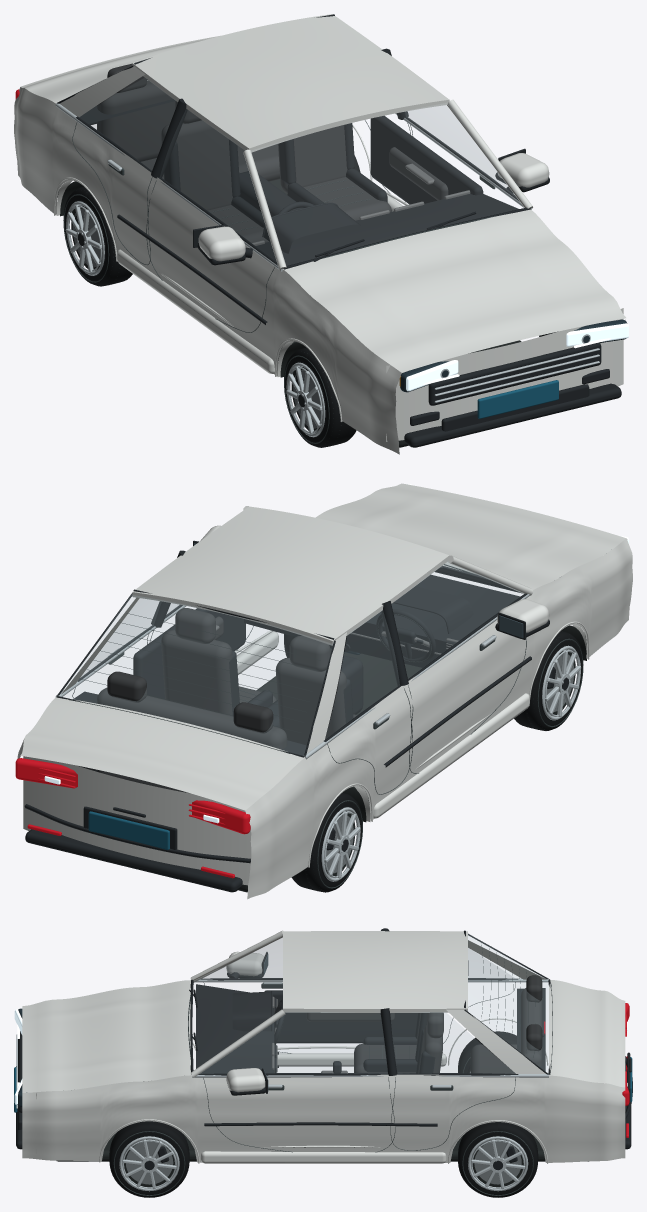
File: c2-training-sedan.glb
3 renders of one model, top to bottom at view 1: azimuth 30°, elevation 25°; view 2: azimuth 150°, elevation 25°; view 3: azimuth 270°, elevation 25°, orthographic. The views are drawn at different scales.
Parts seen in each view (by area): view 1: batch_pearl-white-paint, batch_MeshStandardMaterial (×13), curved-side-window (×3), C2_sedan_rear_axle_origin; view 2: batch_pearl-white-paint, batch_MeshStandardMaterial (×10), curved-rear-screen, curved-side-window (×3), batch_rear-red-lenses, C2_sedan_rear_axle_origin; view 3: batch_pearl-white-paint, batch_MeshStandardMaterial (×10), curved-side-window (×4), curved-rear-screen, C2_sedan_rear_axle_origin, batch_warm-grey-headliner.
Boxes of the visible parts, x1,y1,x2,y2 form: batch_pearl-white-paint: [14, 14, 625, 454]; batch_MeshStandardMaterial (×13): [55, 14, 628, 447]; curved-side-window (×3): [79, 78, 515, 260]; C2_sedan_rear_axle_origin: [71, 201, 544, 432]; batch_pearl-white-paint: [17, 483, 632, 899]; batch_MeshStandardMaterial (×10): [24, 540, 586, 892]; curved-rear-screen: [60, 595, 333, 755]; curved-side-window (×3): [81, 561, 523, 739]; batch_rear-red-lenses: [15, 758, 250, 878]; C2_sedan_rear_axle_origin: [324, 609, 575, 876]; batch_pearl-white-paint: [22, 930, 625, 1163]; batch_MeshStandardMaterial (×10): [16, 928, 632, 1197]; curved-side-window (×4): [201, 938, 515, 1073]; curved-rear-screen: [468, 934, 548, 1072]; C2_sedan_rear_axle_origin: [124, 999, 523, 1187]; batch_warm-grey-headliner: [193, 935, 546, 980].
Size of the model in its own units: 2.3 by 1.54 by 4.62.
